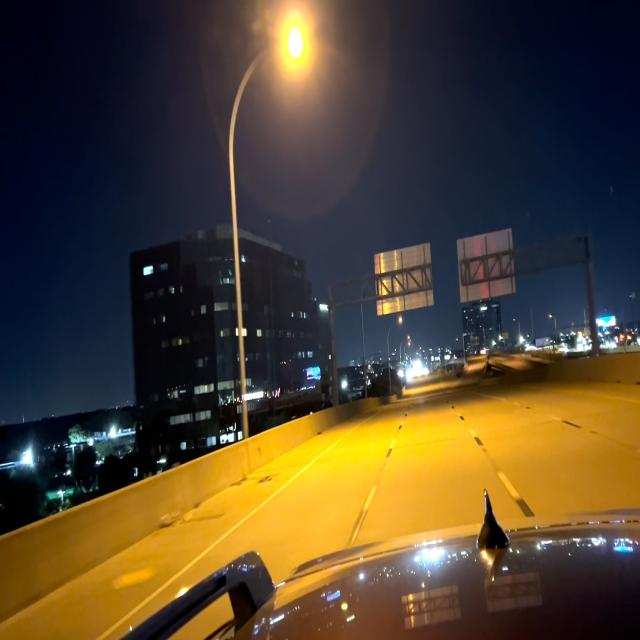back-of-sign: (456, 225, 518, 307), (373, 240, 435, 318)
